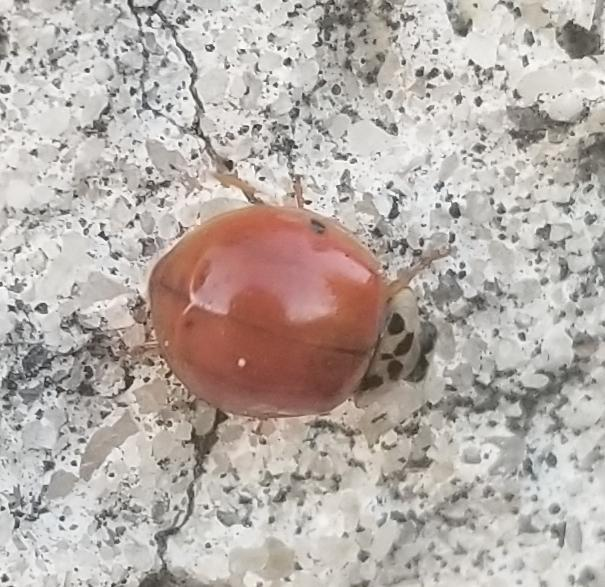ladybug: (116, 158, 449, 436)
